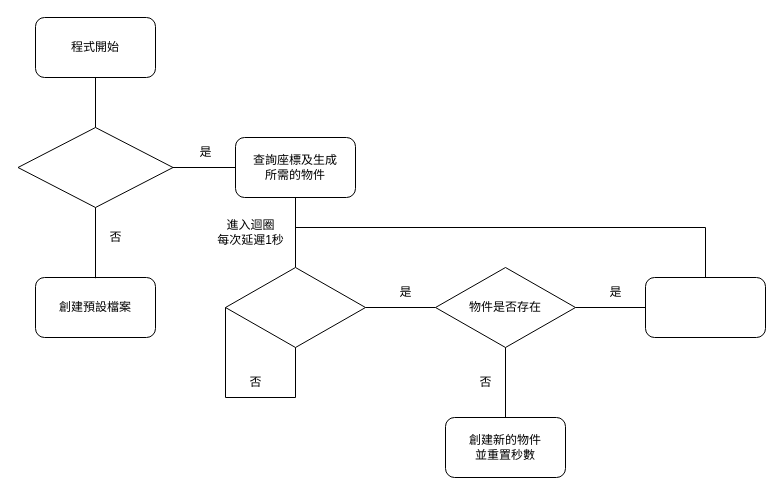
This 783x495 diagram has some shape labels left out. The shapes that lost their labels are listed below. From the top down, each one's box as (x1, y1, x2, y2) in pixels, then its label:
(17, 126, 173, 208): 是否存在預設檔案
(224, 266, 366, 348): 是否達到設定秒數
(644, 276, 766, 338): 程式結束
